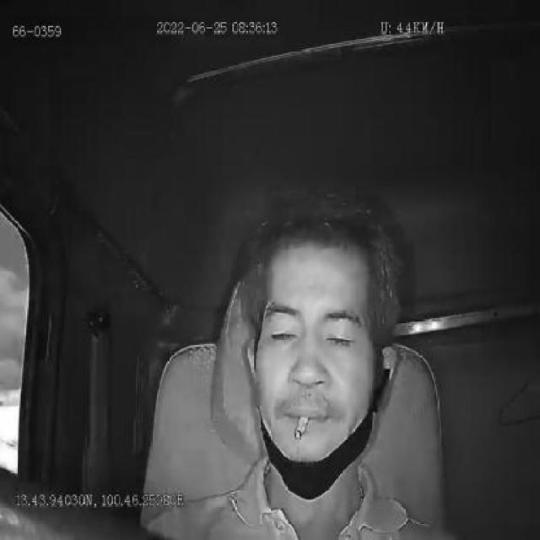smoking: (294, 415, 311, 441)
